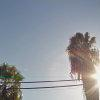Palm tree: (62, 27, 100, 100)
